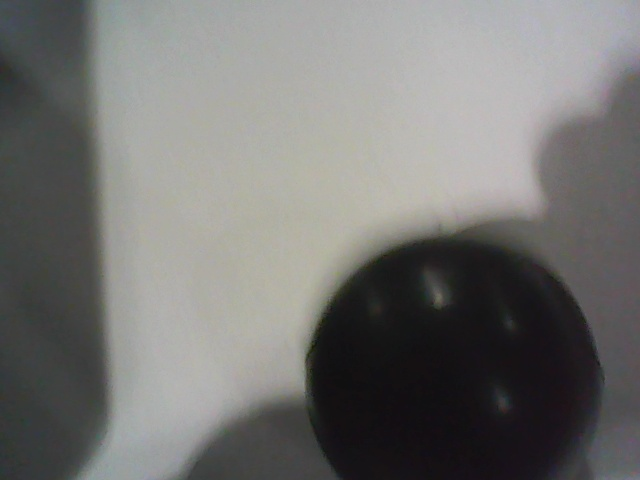ball: (305, 239, 602, 480)
